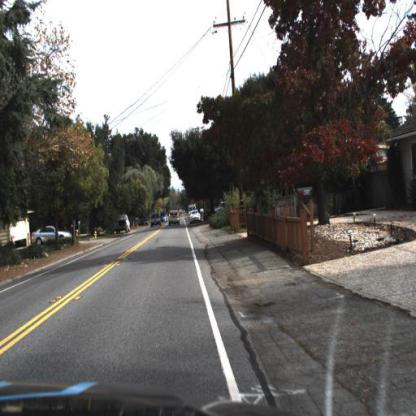car: (31, 223, 77, 249), (31, 225, 73, 245), (116, 214, 132, 237), (168, 209, 182, 229), (149, 213, 164, 231), (188, 211, 202, 228), (188, 209, 202, 226)
